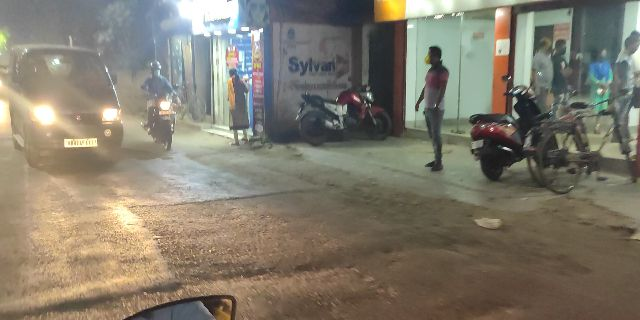Cycle: (553, 112, 636, 187)
Motorbike: (296, 86, 395, 143), (143, 55, 186, 149)
Van: (14, 43, 125, 162)
